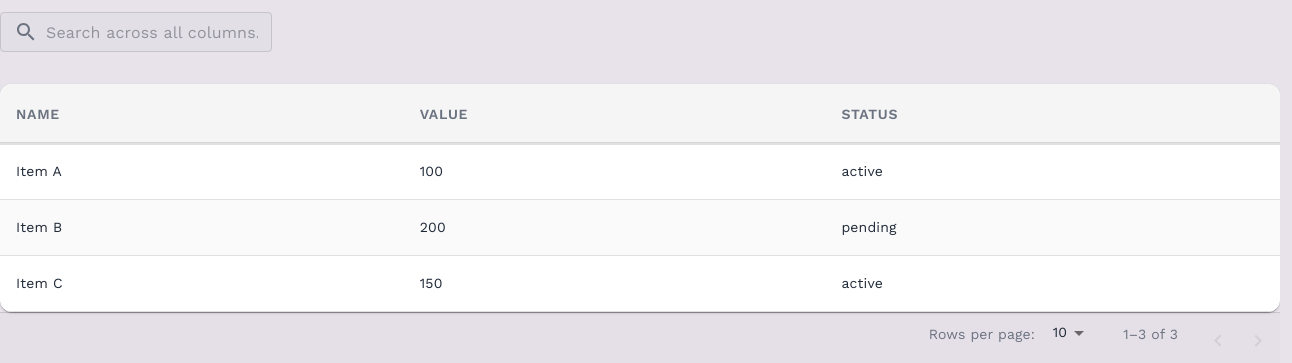
it: DataTable › filters data based on search text
Type "Item A" into the field with placeholder "Search across all columns...". click: (159,32)
box: [46,12,272,52]
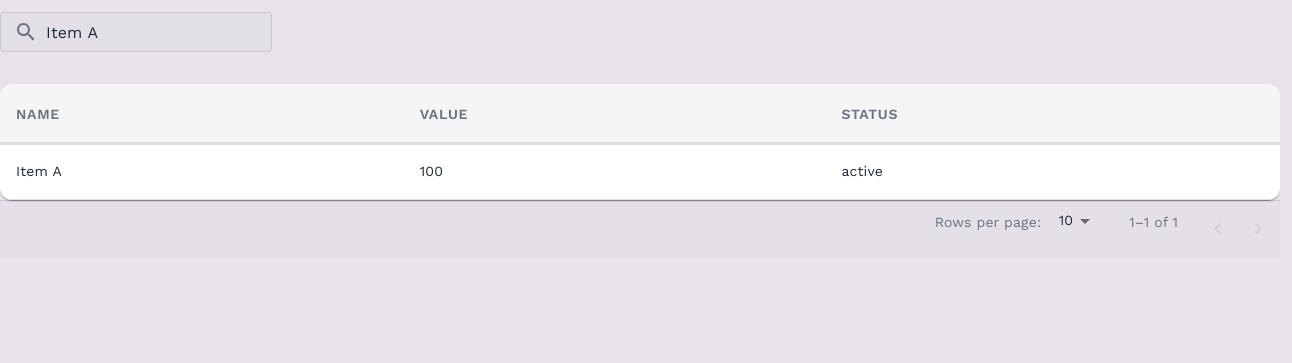
Expected: the text "Item A" is shown, [0,143,404,199]
Expected: the text "Item B" is gone
Expected: the text "Item C" is gone
